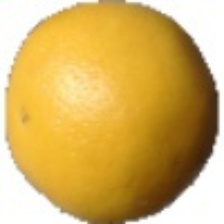grapes: (22, 0, 223, 193)
